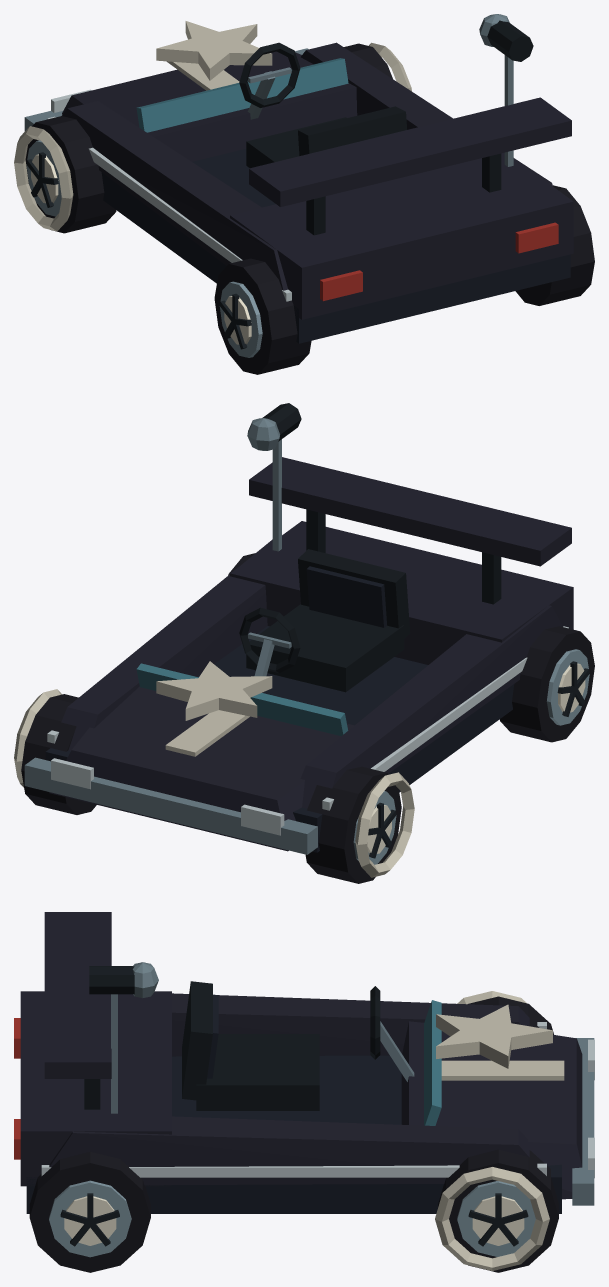
The model's file is kart.glb.
The picture shows the model from 3 angles, top to bottom: view 1: azimuth 30°, elevation 25°; view 2: azimuth 150°, elevation 25°; view 3: azimuth 270°, elevation 25°; orthographic projection. The views are drawn at different scales.
Visible parts, largest first — view 1: identity-sports-car-sports-car-road-car-body, wheel-rear-left, identity-sports-car-driver-cockpit, wheel-front-left, identity-sports-car-motif-neon, identity-sports-car-motif-star, wheel-rear-right, identity-sports-car-motif-microphone, wheel-front-right; view 2: identity-sports-car-sports-car-road-car-body, identity-sports-car-driver-cockpit, wheel-rear-left, wheel-front-left, identity-sports-car-motif-neon, identity-sports-car-motif-star, wheel-front-right, identity-sports-car-motif-microphone; view 3: identity-sports-car-sports-car-road-car-body, identity-sports-car-driver-cockpit, wheel-rear-right, identity-sports-car-motif-neon, wheel-front-right, identity-sports-car-motif-star, identity-sports-car-motif-microphone, wheel-front-left.
Part boxes in pixels (x1,y1,x2,y2): identity-sports-car-sports-car-road-car-body: [24, 42, 573, 343]; wheel-rear-left: [214, 258, 311, 374]; identity-sports-car-driver-cockpit: [239, 42, 406, 168]; wheel-front-left: [25, 116, 116, 233]; identity-sports-car-motif-neon: [14, 42, 411, 301]; identity-sports-car-motif-star: [156, 21, 272, 80]; wheel-rear-right: [515, 185, 594, 305]; identity-sports-car-motif-microphone: [479, 14, 533, 166]; wheel-front-right: [344, 43, 392, 78]; identity-sports-car-sports-car-road-car-body: [24, 457, 573, 854]; identity-sports-car-driver-cockpit: [239, 549, 410, 692]; wheel-rear-left: [499, 626, 594, 742]; wheel-front-left: [305, 766, 401, 883]; identity-sports-car-motif-neon: [14, 626, 568, 877]; identity-sports-car-motif-star: [156, 661, 272, 720]; wheel-front-right: [21, 694, 96, 814]; identity-sports-car-motif-microphone: [247, 403, 301, 551]; identity-sports-car-sports-car-road-car-body: [14, 912, 594, 1213]; identity-sports-car-driver-cockpit: [182, 981, 414, 1110]; wheel-rear-right: [29, 1151, 150, 1272]; identity-sports-car-motif-neon: [41, 991, 549, 1270]; wheel-front-right: [438, 1149, 558, 1272]; identity-sports-car-motif-star: [436, 1004, 552, 1068]; identity-sports-car-motif-microphone: [89, 962, 158, 1113]; wheel-front-left: [468, 996, 553, 1034].
Size of the model in its own units: 2.13 by 1.57 by 2.88.
